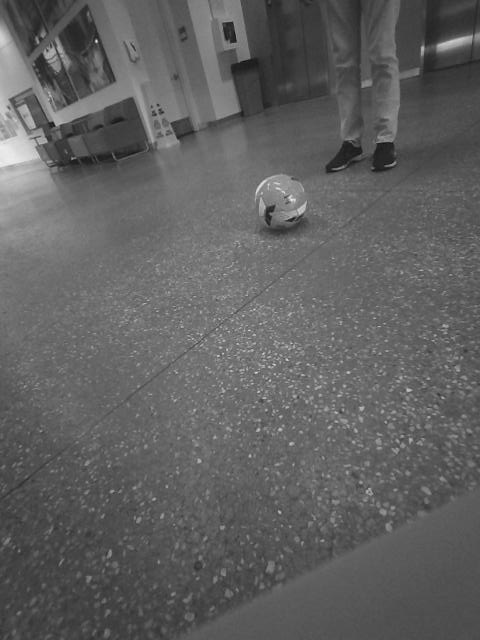ball: (63, 248, 151, 337)
